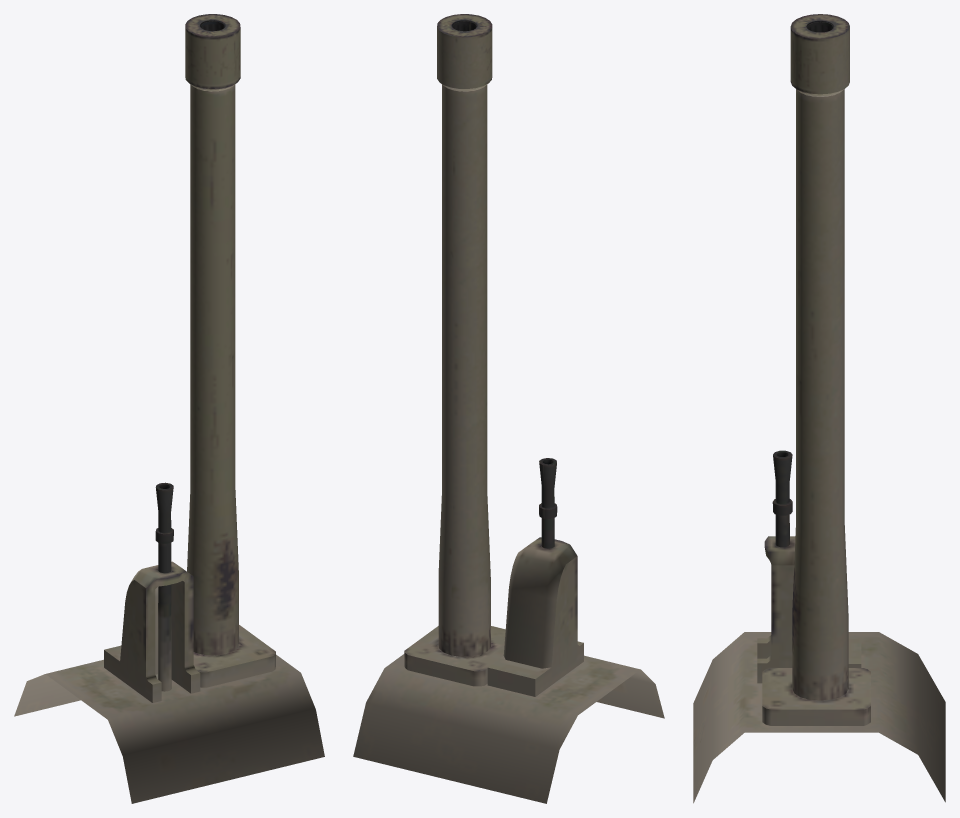
File: Gun_01.glb
The picture shows the model from 3 angles, left to right: view 1: azimuth 30°, elevation 25°; view 2: azimuth 150°, elevation 25°; view 3: azimuth 270°, elevation 25°; orthographic projection. The views are drawn at different scales.
Visible parts, largest first — view 1: set_0_group_0; view 2: set_0_group_0; view 3: set_0_group_0.
Part boxes in pixels (box(x1,y1,x2,y2)): set_0_group_0: box(14, 14, 324, 803); set_0_group_0: box(353, 14, 664, 803); set_0_group_0: box(693, 14, 945, 803).
Size of the model in its own units: 0.5352 by 1.86 by 0.5654.
1 material, 1 textured.
